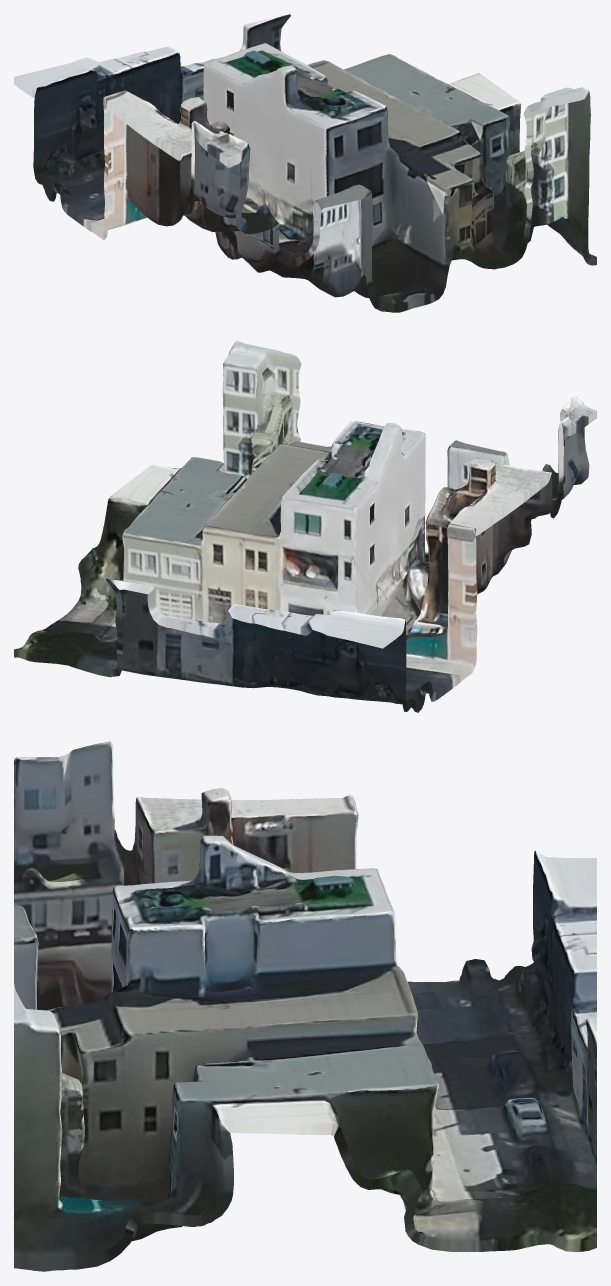
Rendered from z20-167732-405192-h0-yup-uvflip-v3-world.glb.
The picture shows the model from 3 angles, top to bottom: view 1: azimuth 30°, elevation 25°; view 2: azimuth 150°, elevation 25°; view 3: azimuth 270°, elevation 25°; orthographic projection. The views are drawn at different scales.
Size of the model in its own units: 30.16 by 16.44 by 30.32.
1 material, 1 textured.
